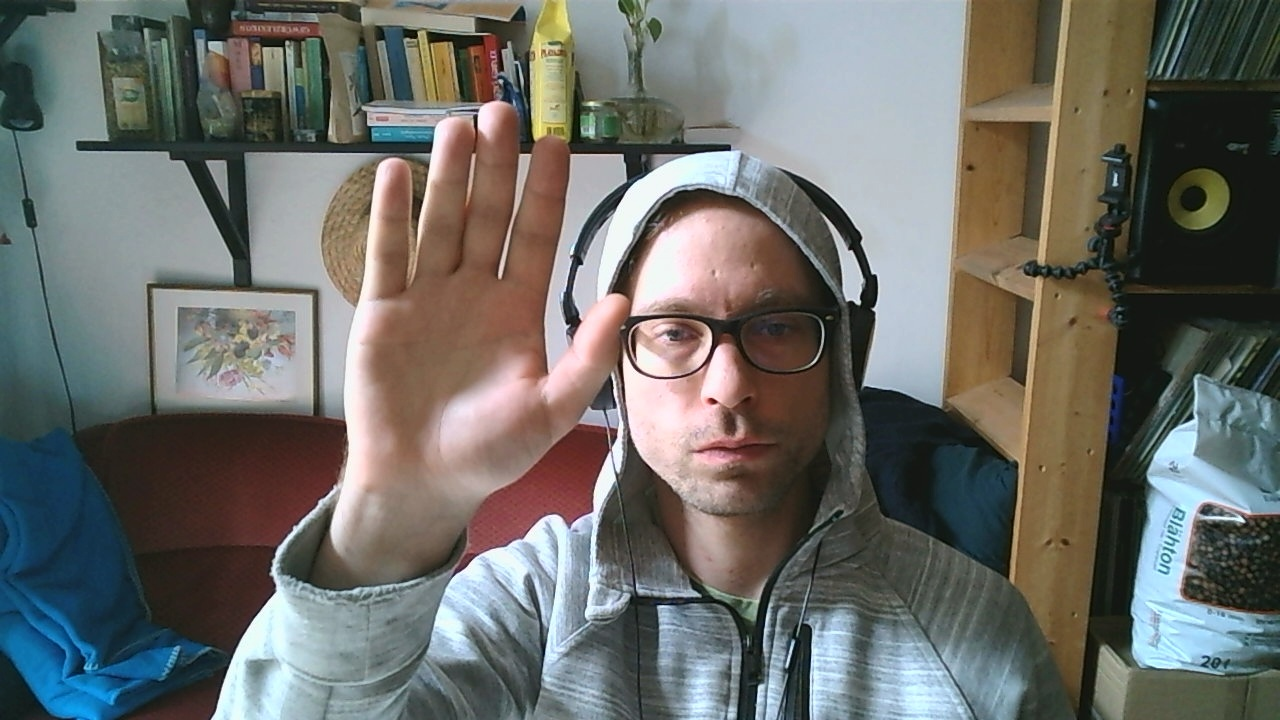hello: (339, 103, 634, 526)
